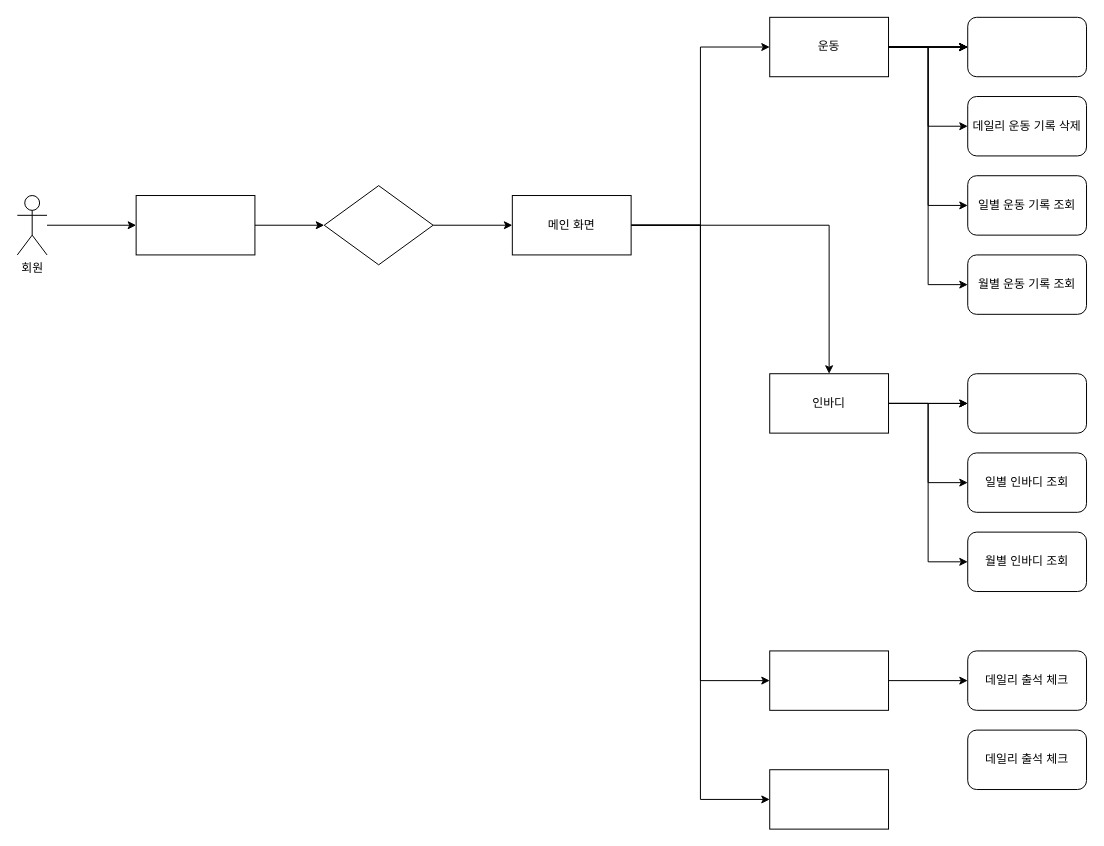
Some shapes in this 1104 by 846 pixel diagram are drawn without their labels. Here are the shapes that lost their labels. From the top down, the centre of each, then its label:
the point at 1027,46: 데일리 운동 기록 저장
the point at 195,225: 로그인
the point at 378,225: 로그인 여부 체크
the point at 1027,403: 인바디 저장
the point at 829,680: 출석
the point at 829,799: 마이
